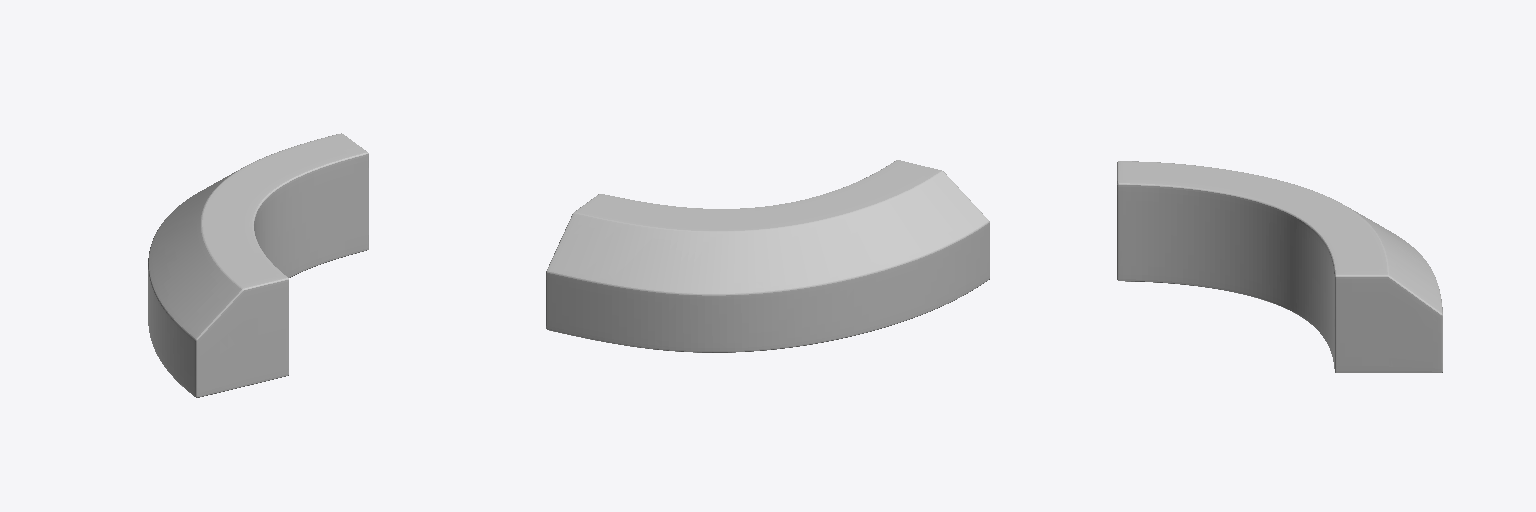
Rendered from InsideBend_HP(1).obj.
3 renders of one model, left to right at view 1: azimuth 30°, elevation 25°; view 2: azimuth 150°, elevation 25°; view 3: azimuth 270°, elevation 25°, orthographic.
Visible parts, largest first — view 1: Inside_Bend; view 2: Inside_Bend; view 3: Inside_Bend.
Part boxes in pixels (bbox=[...]): Inside_Bend: bbox=[148, 133, 368, 397]; Inside_Bend: bbox=[546, 160, 989, 352]; Inside_Bend: bbox=[1117, 161, 1442, 372].
Size of the model in its own units: 3 by 0.9999 by 3.